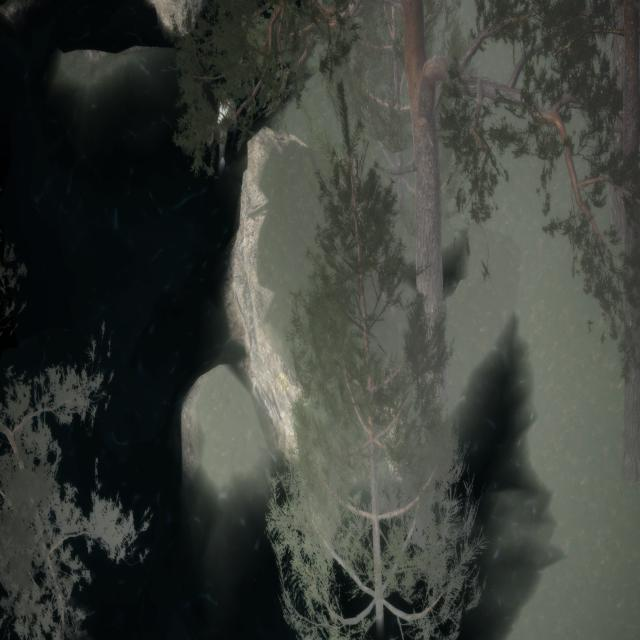Human: (184, 91, 238, 173)
